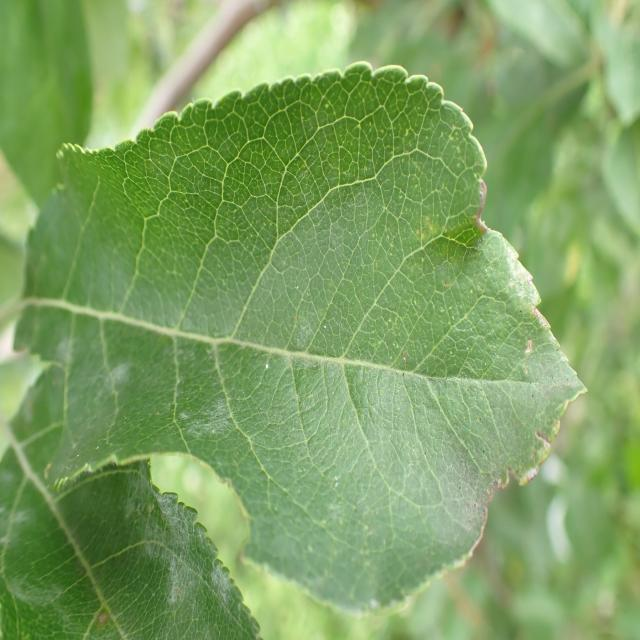Powdery_mildew: (19, 110, 554, 572), (0, 446, 271, 635)
